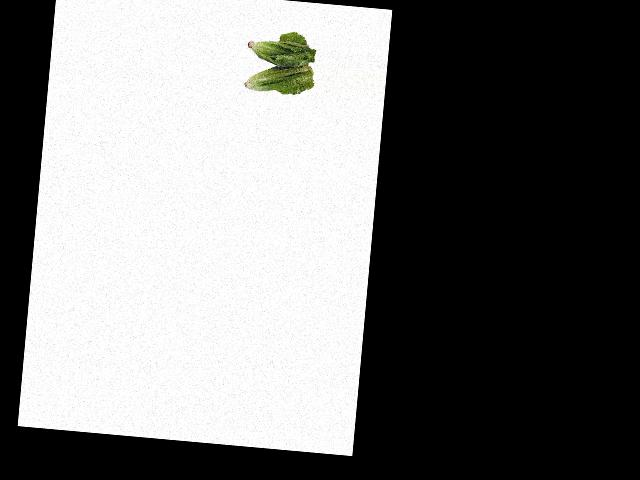lettuce: (242, 34, 317, 100)
